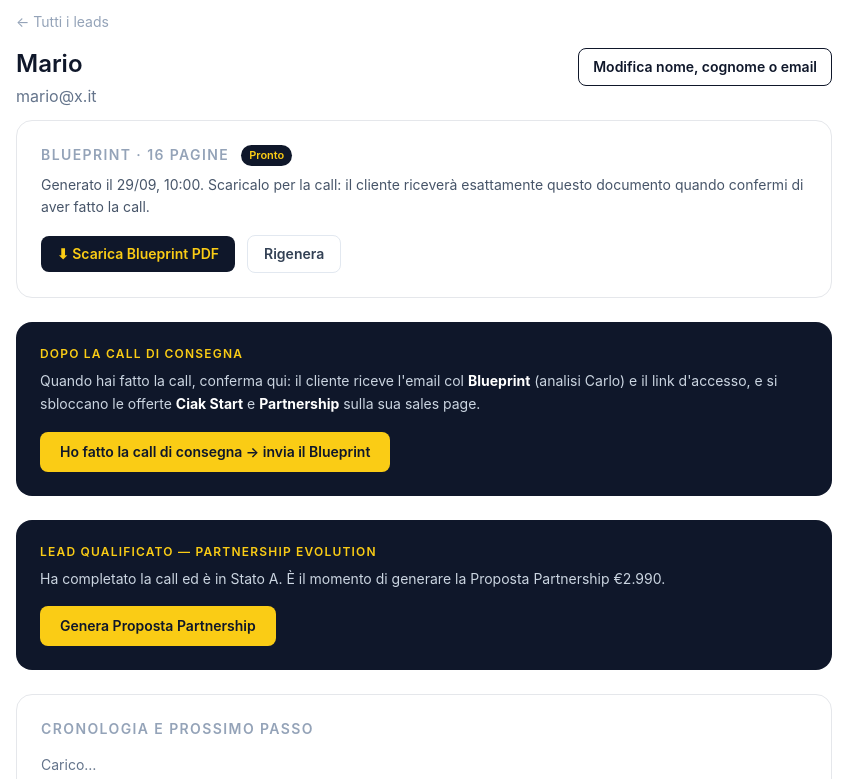
it: recupero accesso del cliente › la proposta non mostra più un URL /insider/ (non apre più nulla)
This screenshot has width=849, height=779.
Step 1. Click the button "Genera Proposta Partnership" → (158, 626), box [40,606,276,646]
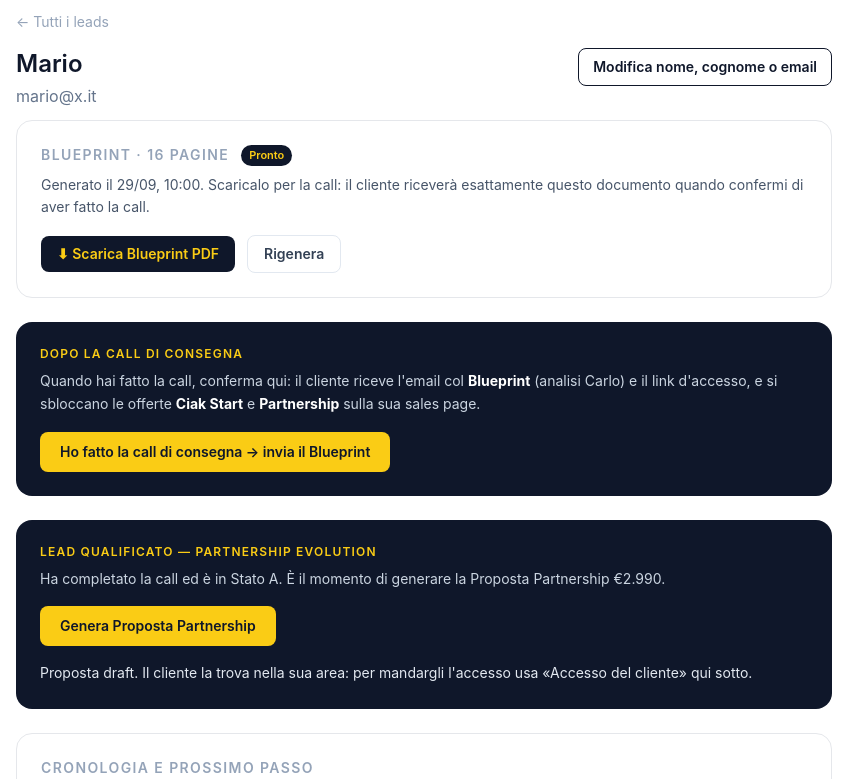
Check: the text "Il cliente la trova nella sua area" is shown, box [134,664,752,681]
